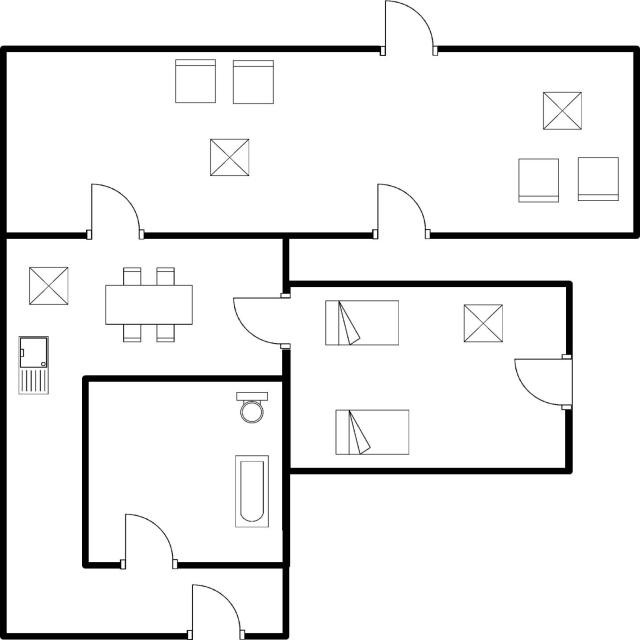bed: (318, 293, 403, 350), (332, 406, 415, 460)
coffee_table: (205, 132, 253, 185), (458, 300, 508, 347), (24, 264, 75, 310), (537, 87, 585, 135)
dining_table: (99, 263, 197, 346)
large_sink: (230, 389, 270, 427)
sink: (15, 331, 53, 398)
small_sofa: (513, 153, 565, 206), (574, 152, 624, 207), (228, 56, 278, 108), (170, 56, 219, 107)
tub: (230, 449, 272, 532)
